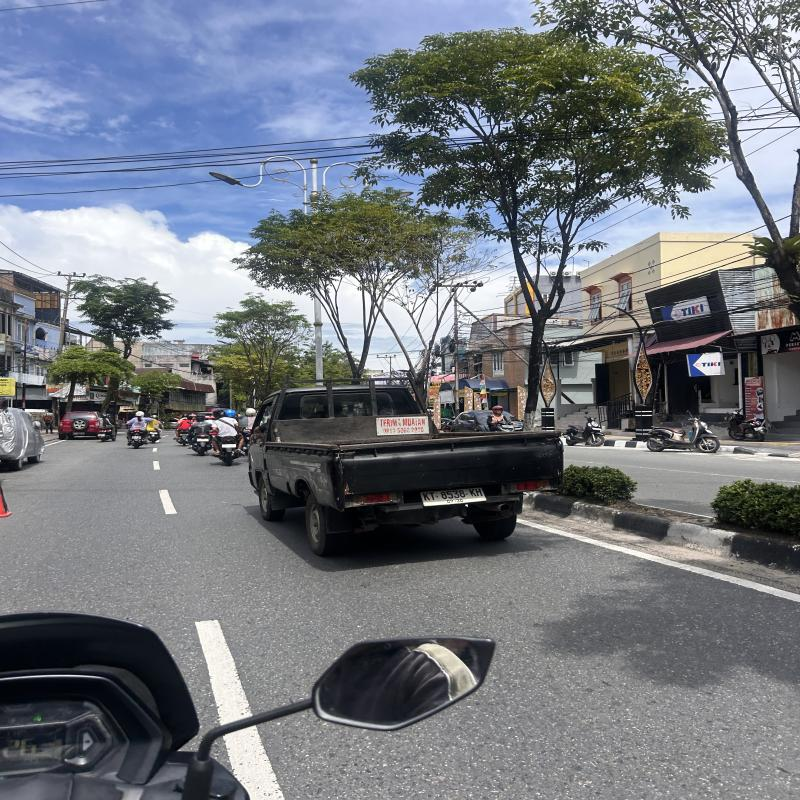license plate on a car: (420, 486, 486, 507)
